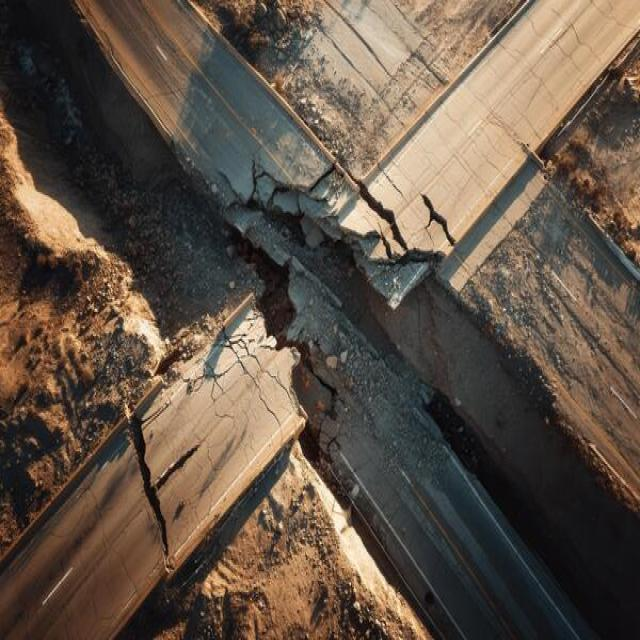north tank: (18, 45, 626, 640)
